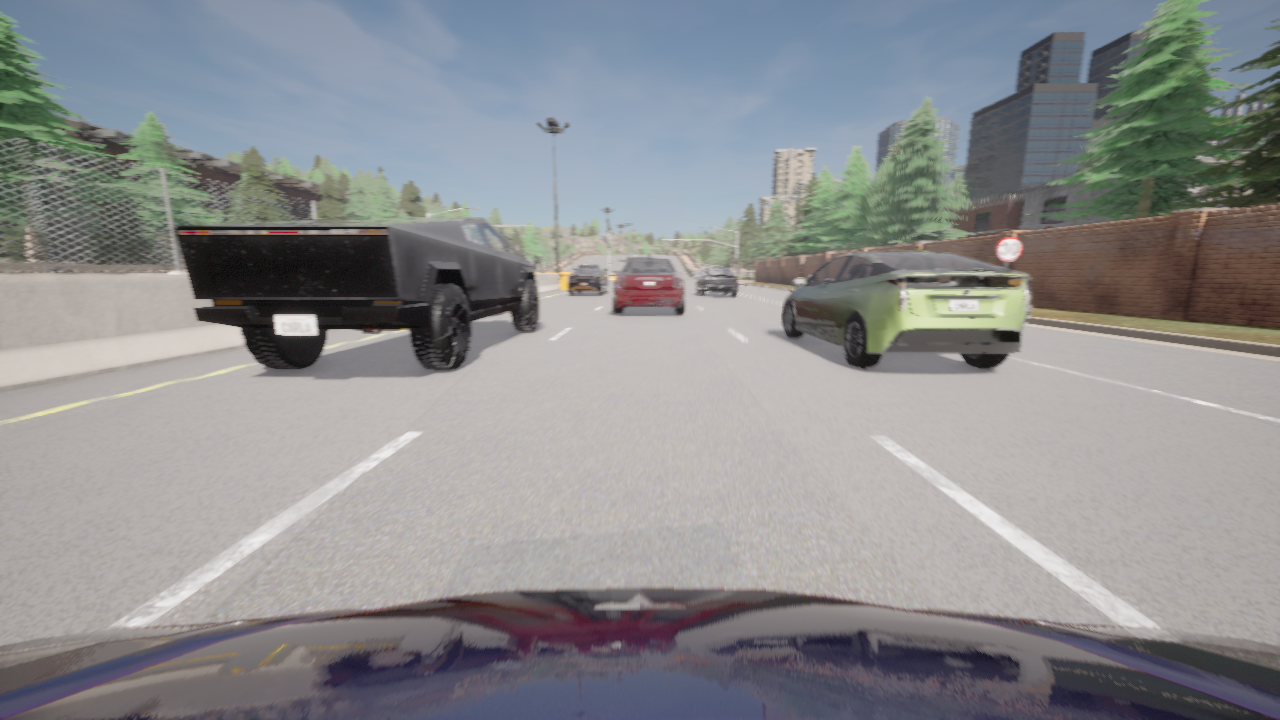cyclist: (0, 588, 1279, 719), (173, 218, 538, 370), (782, 251, 1030, 368), (613, 253, 685, 314), (694, 267, 737, 296), (568, 266, 607, 294)
